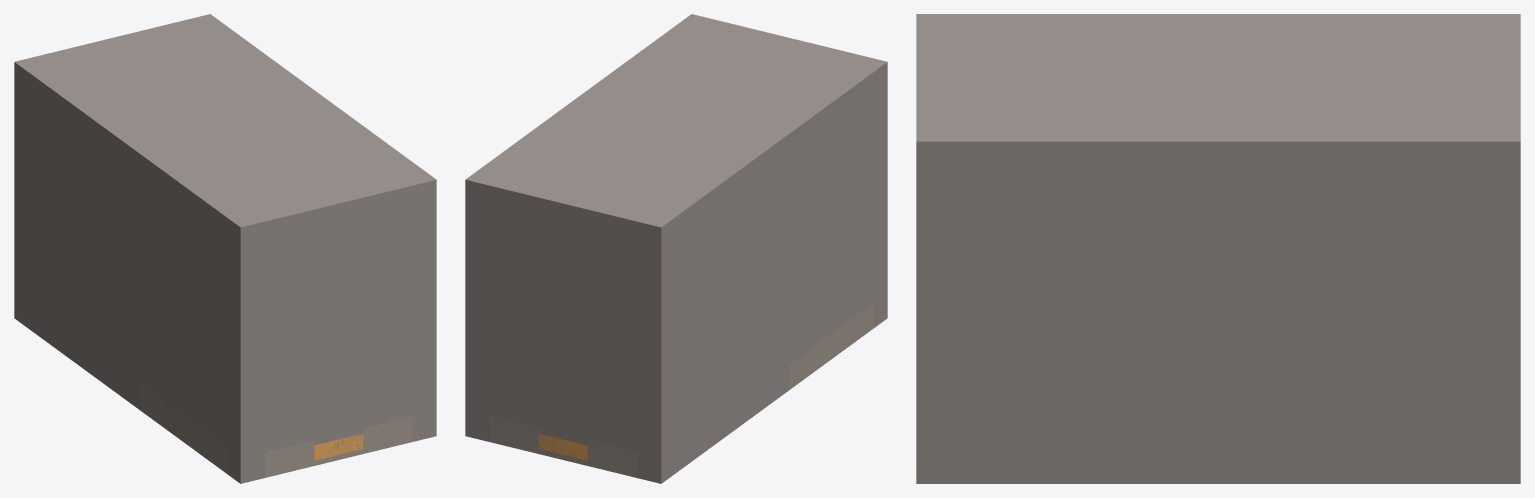
Rendered from stream.glb.
3 views of the same model, side by side, from view 1: azimuth 30°, elevation 25°; view 2: azimuth 150°, elevation 25°; view 3: azimuth 270°, elevation 25° (orthographic). The views are drawn at different scales.
Parts seen in each view (by area): view 1: rock_7, rock_1, plug_stream_south, plug_west, rock_3, rock_2, rock_6, rock_5, cave-floor_3, cave-floor_1, cave-floor_2, lava_1 (+1 smaller); view 2: rock_7, rock_1, plug_stream_north, plug_west, rock_2, rock_6, rock_4, rock_3, cave-floor_3, cave-floor_1, cave-floor_2, lava_1 (+1 smaller); view 3: rock_2, rock_7.
Boxes of the visible parts, bbox=[...] form: rock_7: bbox=[14, 14, 436, 252]; rock_1: bbox=[14, 88, 141, 411]; plug_stream_south: bbox=[265, 237, 412, 452]; plug_west: bbox=[141, 232, 226, 447]; rock_3: bbox=[226, 243, 265, 483]; rock_2: bbox=[412, 205, 436, 441]; rock_6: bbox=[141, 181, 226, 293]; rock_5: bbox=[265, 211, 412, 272]; cave-floor_3: bbox=[141, 386, 226, 473]; cave-floor_1: bbox=[265, 440, 314, 477]; cave-floor_2: bbox=[363, 416, 412, 453]; lava_1: bbox=[314, 434, 363, 460]; rock_7: bbox=[465, 14, 887, 252]; rock_1: bbox=[636, 160, 788, 483]; plug_stream_north: bbox=[489, 237, 636, 452]; plug_west: bbox=[788, 149, 873, 364]; rock_2: bbox=[465, 205, 489, 441]; rock_6: bbox=[788, 98, 873, 210]; rock_4: bbox=[489, 211, 636, 272]; rock_3: bbox=[873, 88, 887, 327]; cave-floor_3: bbox=[788, 303, 873, 390]; cave-floor_1: bbox=[587, 440, 636, 477]; cave-floor_2: bbox=[489, 416, 538, 453]; lava_1: bbox=[538, 434, 587, 460]; rock_2: bbox=[916, 176, 1520, 483]; rock_7: bbox=[916, 14, 1520, 175].
Bounding box in the file's own units: 4 × 5 × 8.
